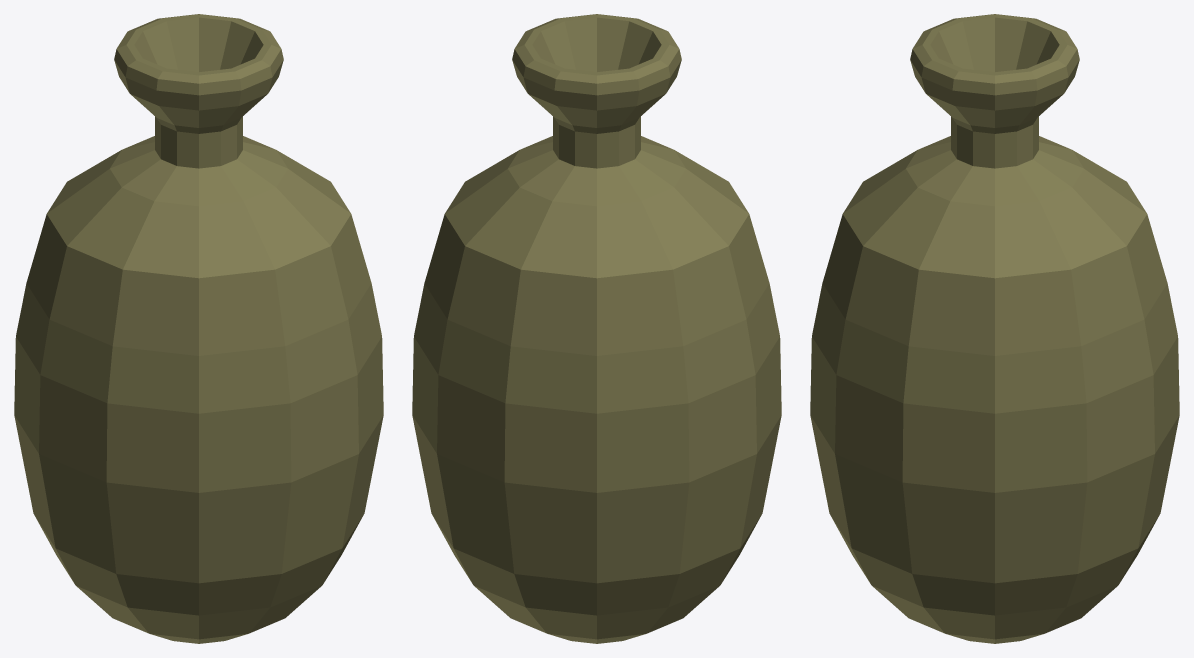
File: Pot01.fbx
3 views of the same model, side by side, from view 1: azimuth 30°, elevation 25°; view 2: azimuth 150°, elevation 25°; view 3: azimuth 270°, elevation 25° (orthographic).
Visible parts, largest first — view 1: Pot01; view 2: Pot01; view 3: Pot01.
Part boxes in pixels (x1,y1,x2,y2): Pot01: (14,14,383,643); Pot01: (412,14,781,643); Pot01: (810,14,1179,643).
Size of the model in its own units: 48.35 by 83.32 by 48.35.
